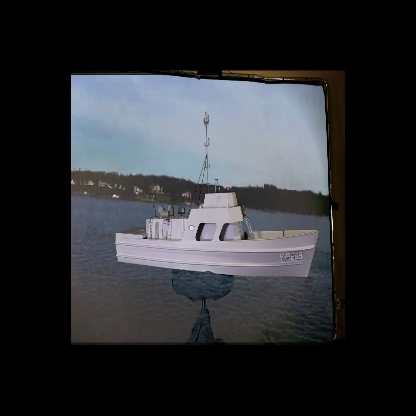YP689: (116, 111, 319, 280)
